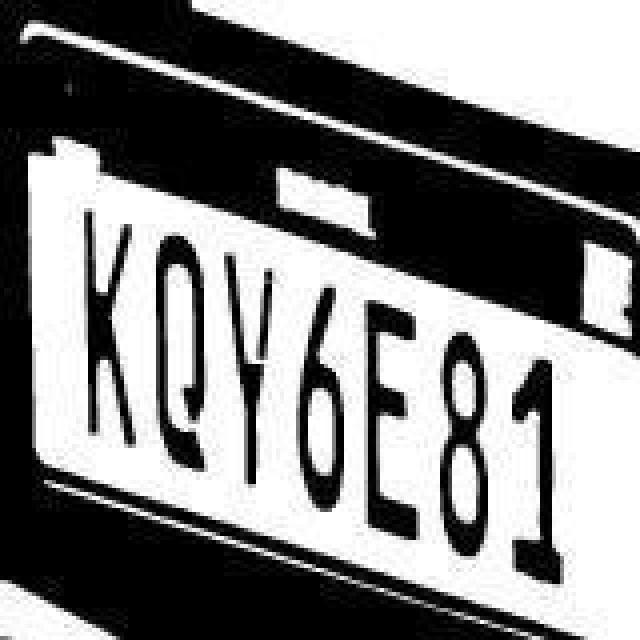1: (504, 356, 568, 588)
6: (290, 274, 350, 526)
8: (430, 324, 498, 564)
E: (356, 300, 428, 548)
K: (76, 192, 140, 464)
Q: (152, 226, 208, 478)
Y: (226, 244, 286, 516)
